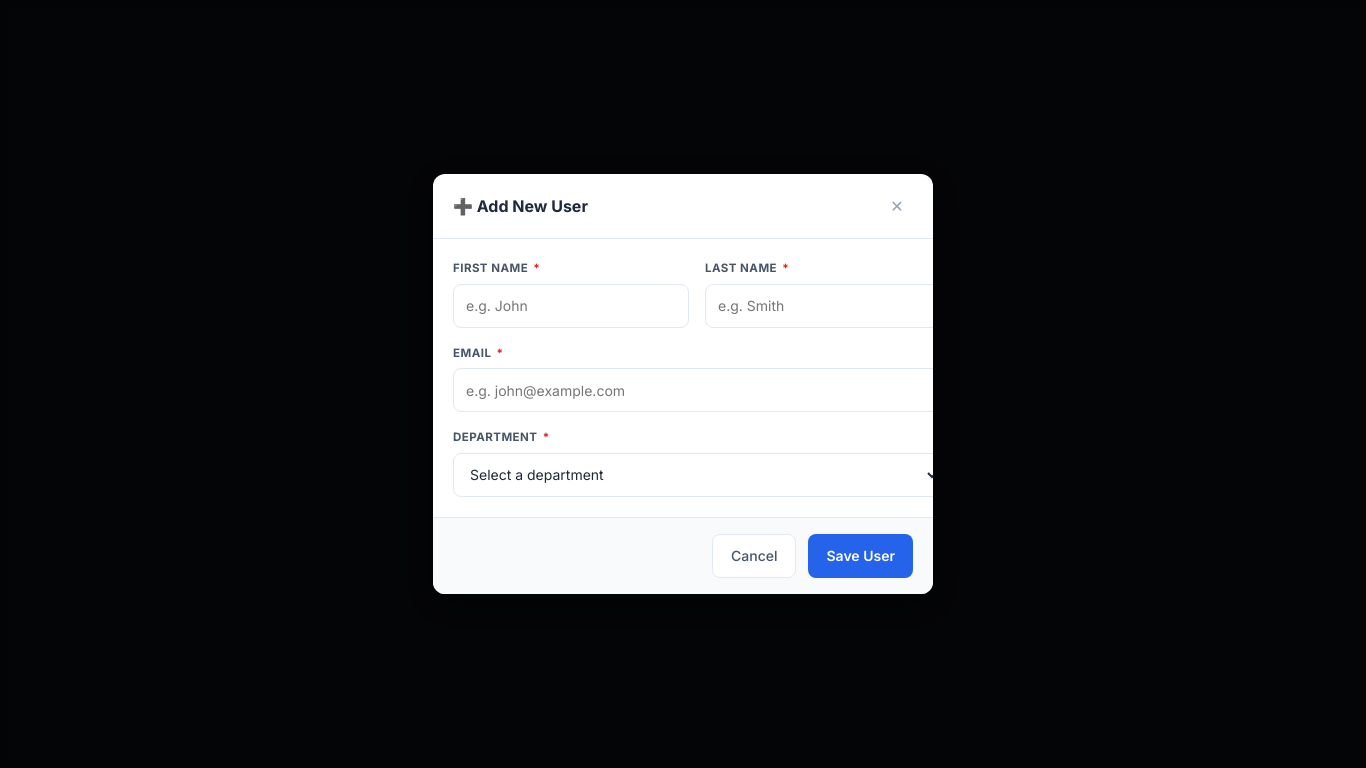
Test: UserForm › shows validation errors when submitted with empty fields
What coordinates should you click on to do the following:
click the button "Save User"
I would click on:
 (861, 556)
Its box is [808,534,913,578].
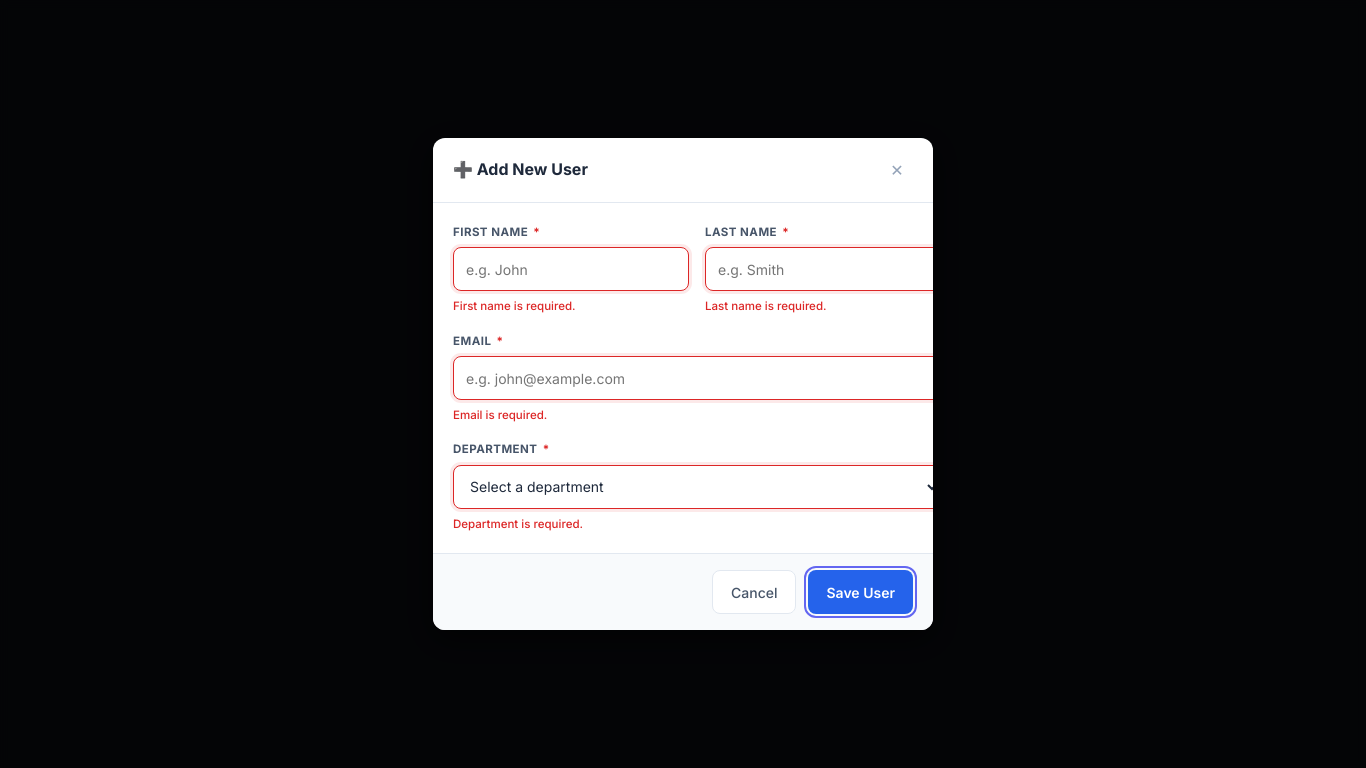
Expected: the text "First name is required." is shown, [453,299,576,313]
Expected: the text "Last name is required." is shown, [705,299,826,313]
Expected: the text "Email is required." is shown, [453,408,547,422]
